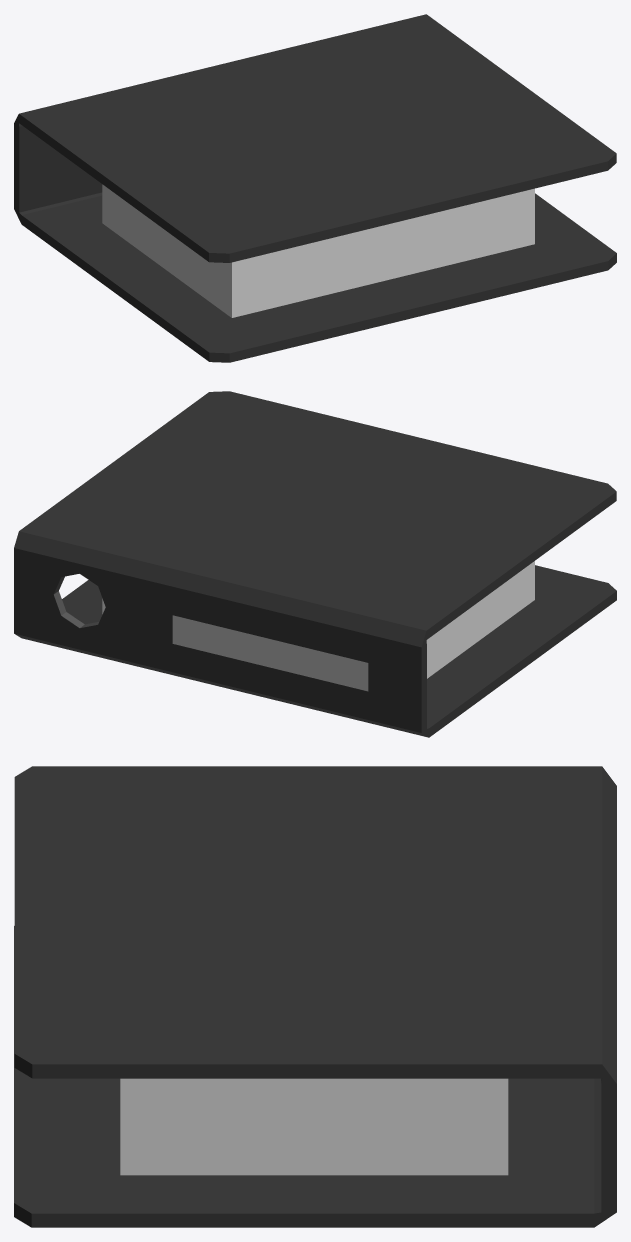
Rendered from Mappe_Sort.fbx.
3 renders of one model, top to bottom at view 1: azimuth 30°, elevation 25°; view 2: azimuth 150°, elevation 25°; view 3: azimuth 270°, elevation 25°, orthographic. The views are drawn at different scales.
Parts seen in each view (by area): view 1: Mappe, Mappestak; view 2: Mappe, Mappestak; view 3: Mappe, Mappestak.
Boxes of the visible parts, x1,y1,x2,y2 form: Mappe: (14, 14, 616, 362); Mappestak: (102, 184, 534, 317); Mappe: (14, 391, 616, 737); Mappestak: (102, 561, 534, 678); Mappe: (14, 766, 616, 1227); Mappestak: (120, 1078, 508, 1175).
Size of the model in its own units: 141 by 35.95 by 120.
